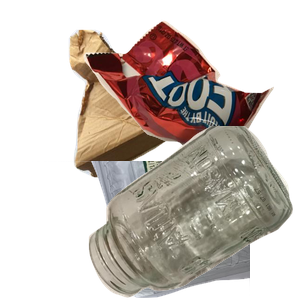cardboard: (66, 27, 242, 197)
glass: (86, 126, 300, 300)
plastic: (23, 161, 263, 300)
trash: (81, 18, 300, 182)
